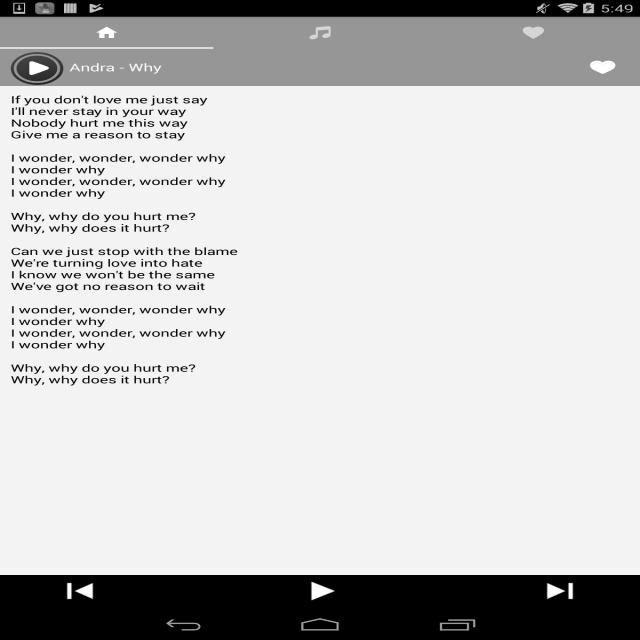ImageView: (160, 575, 480, 607), (0, 575, 160, 607), (480, 575, 640, 607), (11, 52, 64, 85), (586, 58, 618, 78), (213, 47, 427, 49), (307, 24, 333, 40), (94, 24, 119, 40), (521, 24, 546, 40), (426, 47, 640, 48), (0, 47, 213, 48)
TextView: (0, 86, 253, 393), (64, 49, 587, 86)
